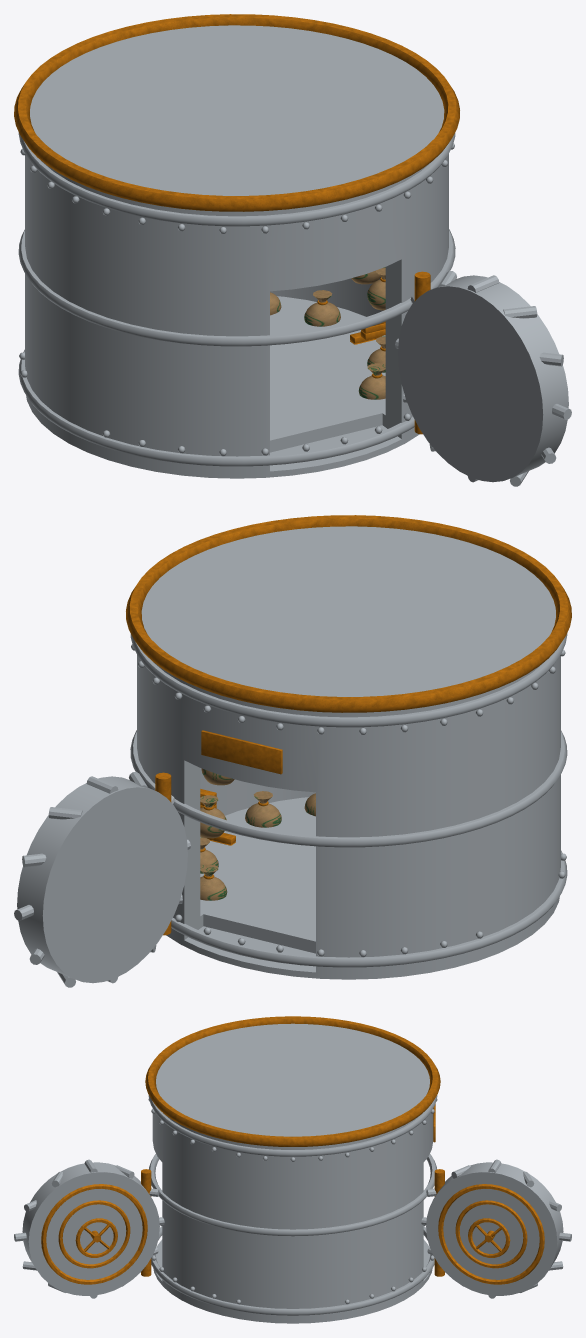
The model's file is bank-vault.glb.
3 renders of one model, top to bottom at view 1: azimuth 30°, elevation 25°; view 2: azimuth 150°, elevation 25°; view 3: azimuth 270°, elevation 25°, orthographic. The views are drawn at different scales.
Parts seen in each view (by area): view 1: bank-vault; view 2: bank-vault; view 3: bank-vault.
Part boxes in pixels (x1,y1,x2,y2): bank-vault: (14,14,571,486); bank-vault: (14,515,571,987); bank-vault: (14,1016,571,1323).
Size of the model in its own units: 6.74 by 4.7 by 12.74.
5 materials, 4 textured.
